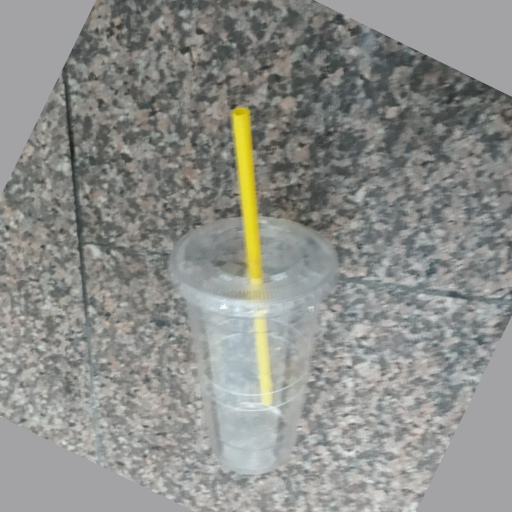Plastic_2: (167, 106, 340, 479)
